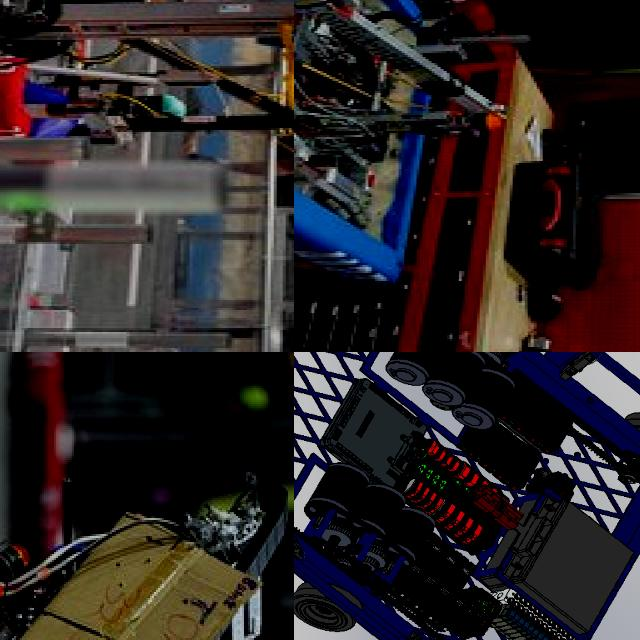FRC-Robots: (294, 352, 640, 640), (0, 368, 294, 640), (294, 0, 480, 326), (0, 0, 294, 201)
